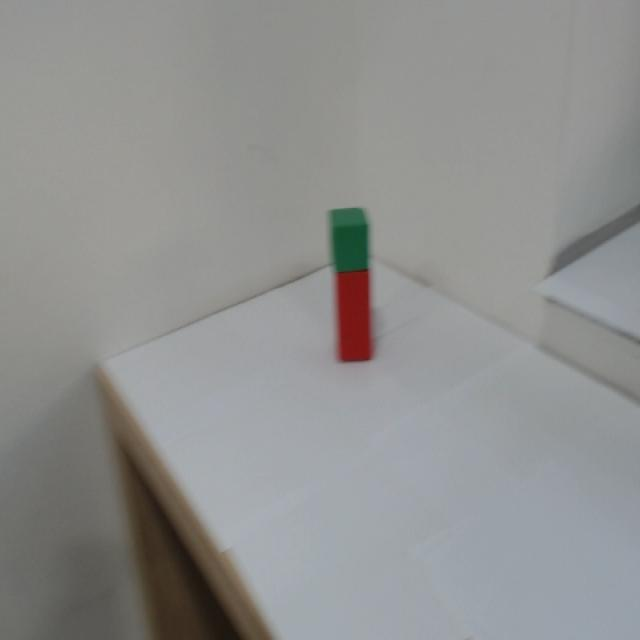cube: (325, 198, 392, 275)
